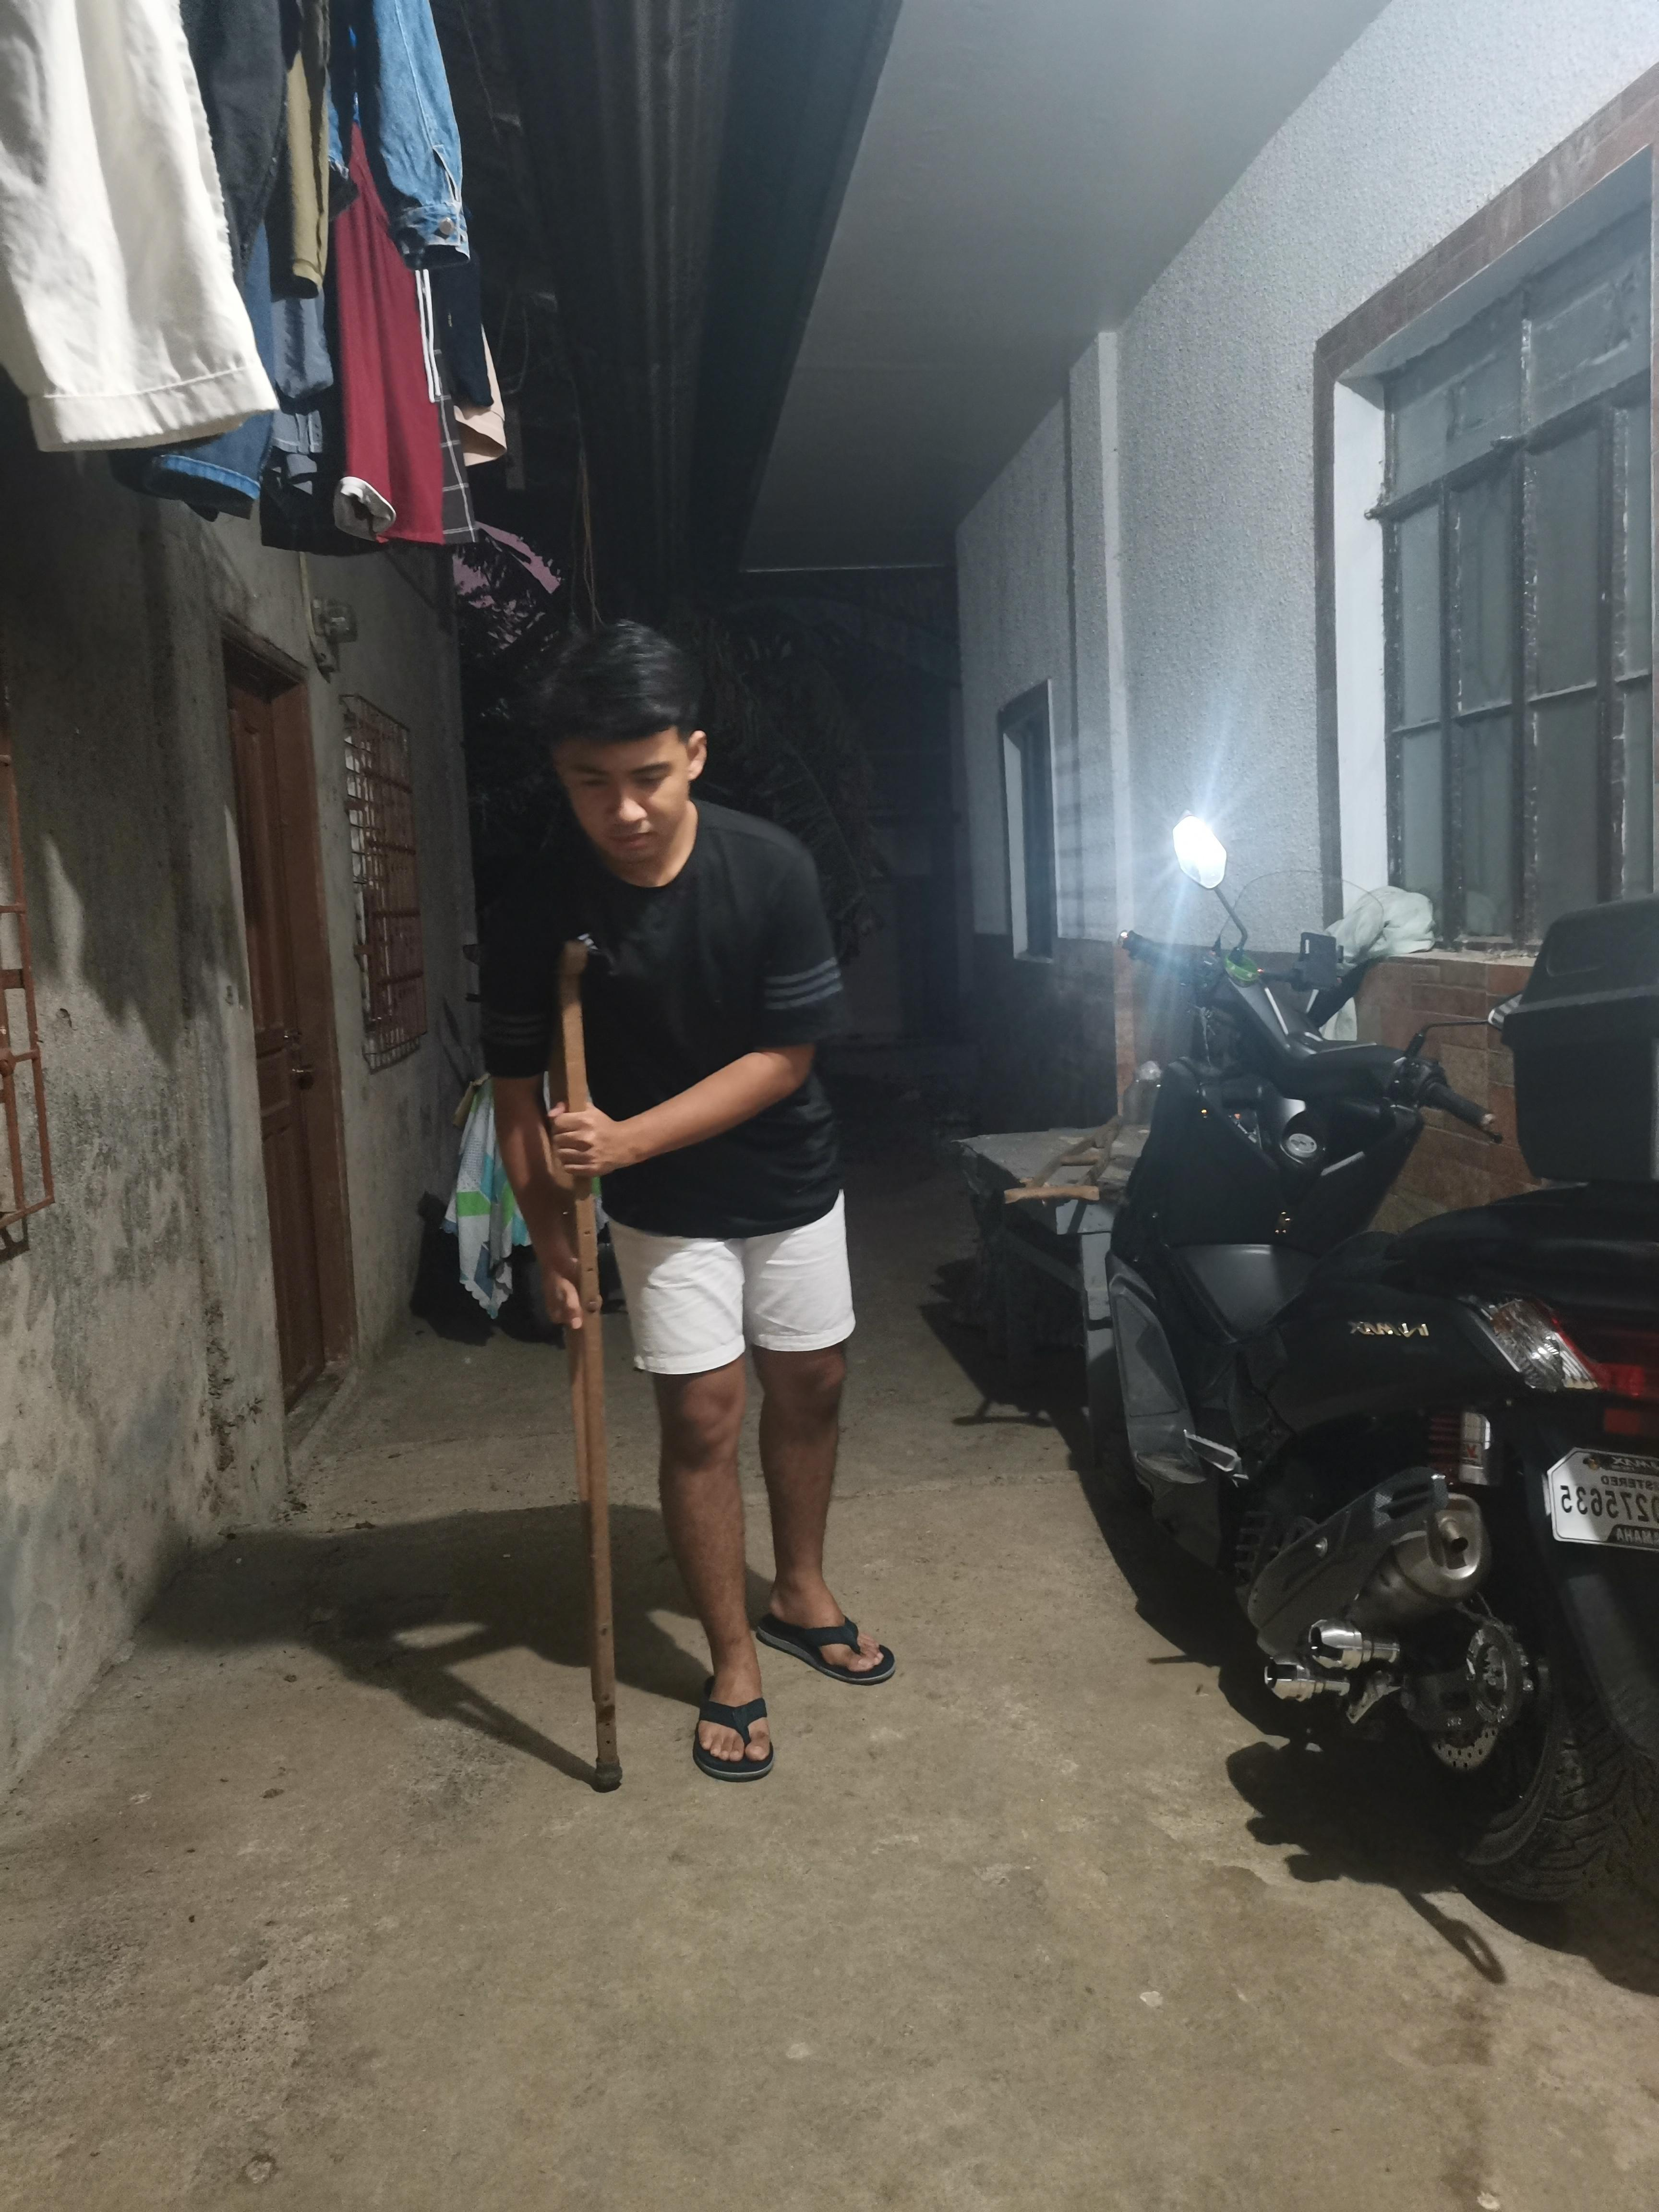crutches: (479, 622, 887, 1797)
